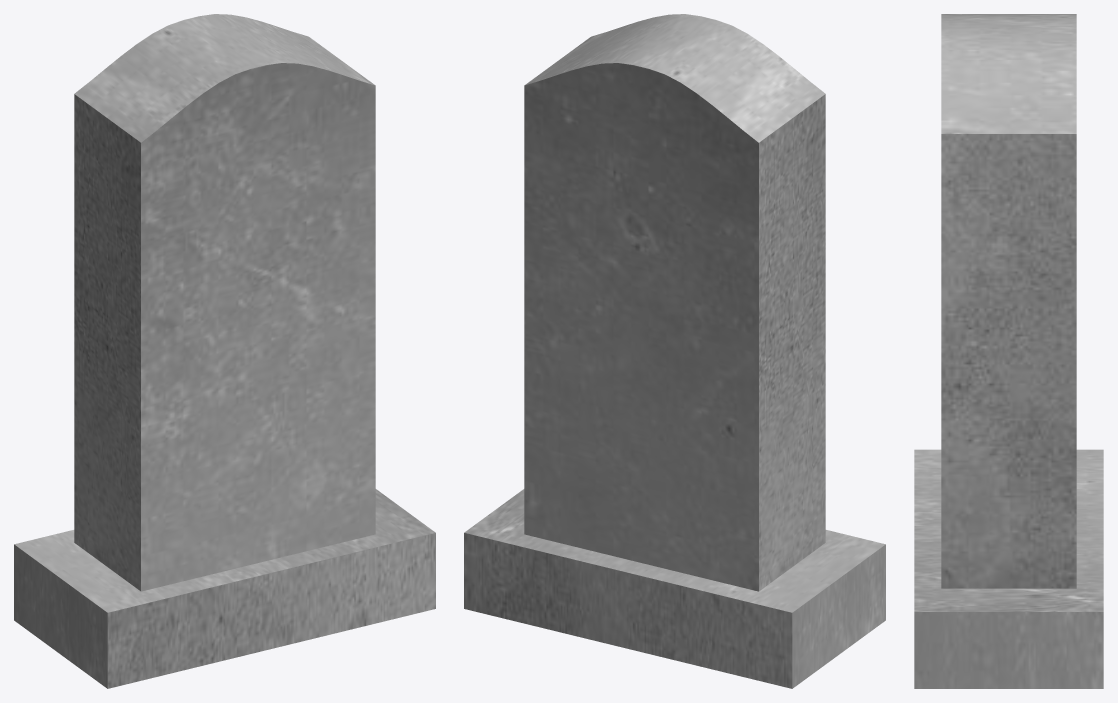
The model's file is tombstone (1).fbx.
3 views of the same model, side by side, from view 1: azimuth 30°, elevation 25°; view 2: azimuth 150°, elevation 25°; view 3: azimuth 270°, elevation 25° (orthographic).
Parts seen in each view (by area): view 1: Cube; view 2: Cube; view 3: Cube.
Part boxes in pixels (x1=…): Cube: x1=14, y1=14, x2=435, y2=688; Cube: x1=464, y1=14, x2=885, y2=688; Cube: x1=914, y1=14, x2=1103, y2=688.
Size of the model in its own units: 200 by 333 by 98.77.
1 material, 1 textured.
